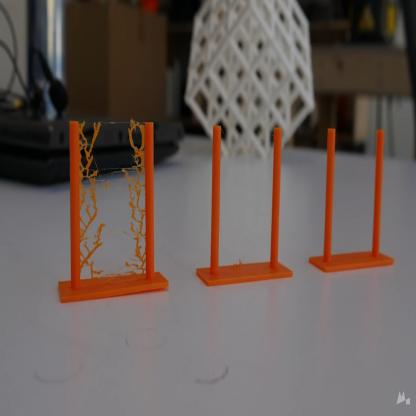fail: (84, 121, 151, 276)
